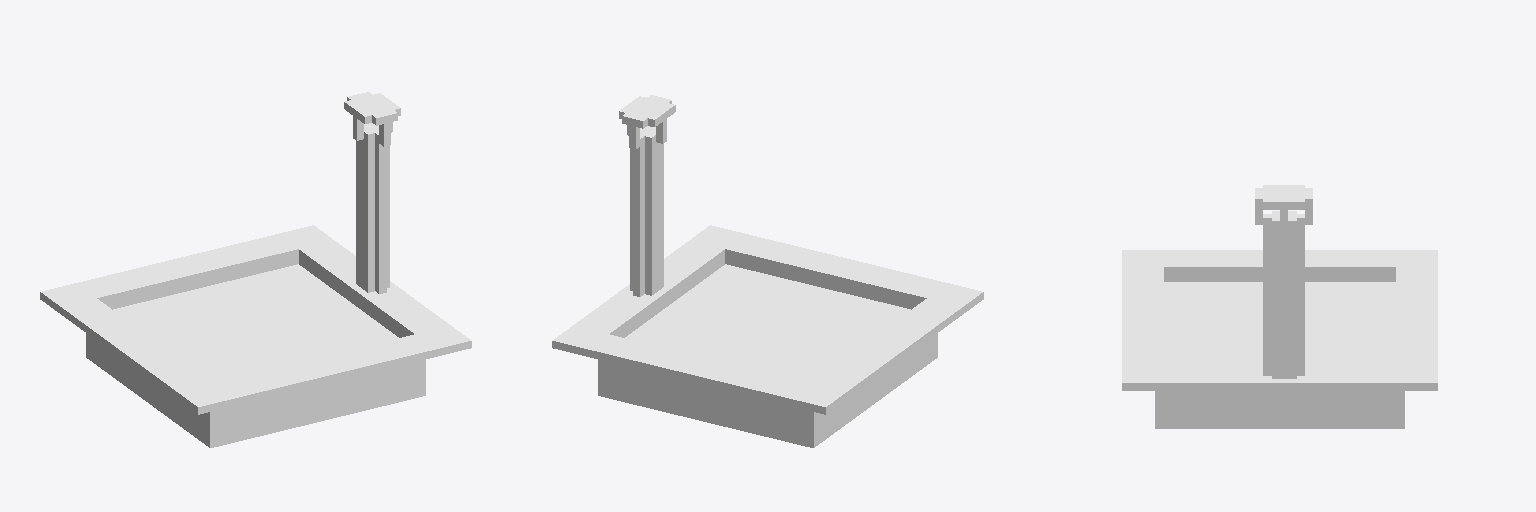
Rendered from Grill-1-frame.obj.
3 views of the same model, side by side, from view 1: azimuth 30°, elevation 25°; view 2: azimuth 150°, elevation 25°; view 3: azimuth 270°, elevation 25° (orthographic).
Parts seen in each view (by area): view 1: frame; view 2: frame; view 3: frame.
Boxes of the visible parts, x1=… form: frame: x1=40, y1=92, x2=471, y2=447; frame: x1=552, y1=95, x2=983, y2=447; frame: x1=1122, y1=185, x2=1437, y2=428.
Bounding box in the file's own units: 3.8 × 3.2 × 3.8.